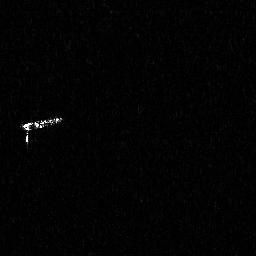ship: (19, 113, 65, 150)
